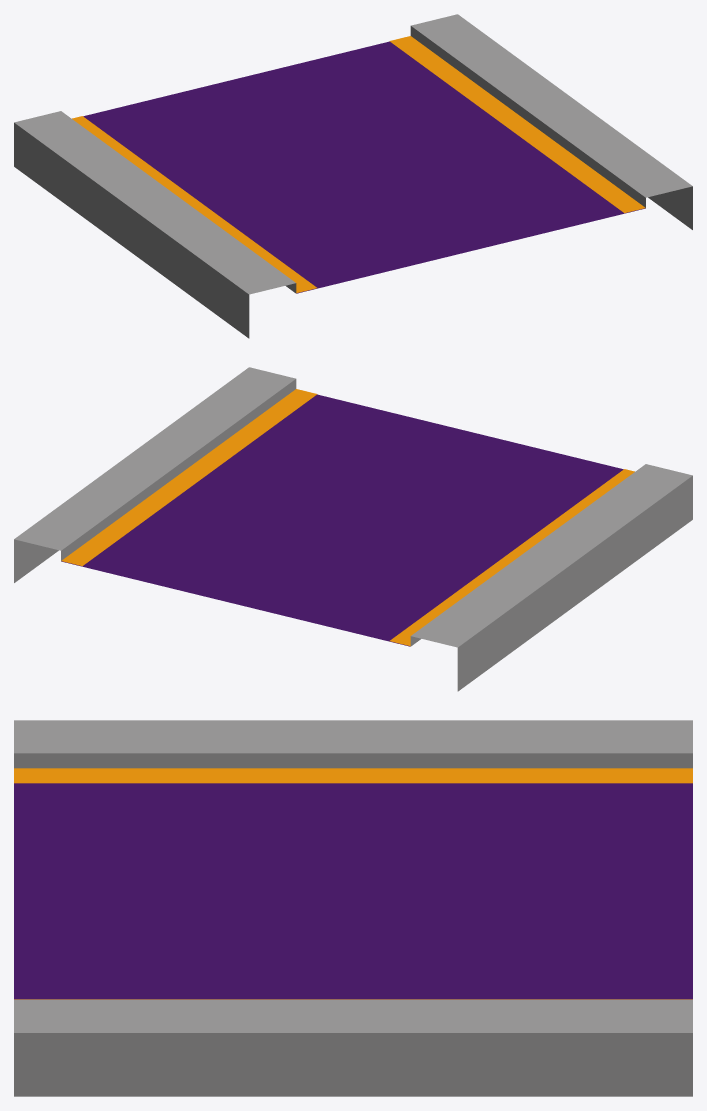
File: Road_C_14.glb
3 renders of one model, top to bottom at view 1: azimuth 30°, elevation 25°; view 2: azimuth 150°, elevation 25°; view 3: azimuth 270°, elevation 25°, orthographic. The views are drawn at different scales.
Visible parts, largest first — view 1: Road_C_14; view 2: Road_C_14; view 3: Road_C_14.
Boxes of the visible parts, box(x1,y1,x2,y2) form: Road_C_14: box(14, 14, 692, 338); Road_C_14: box(14, 367, 692, 691); Road_C_14: box(14, 720, 692, 1096).
Size of the model in its own units: 4.36 by 0.4148 by 4.
1 material, 1 textured.
